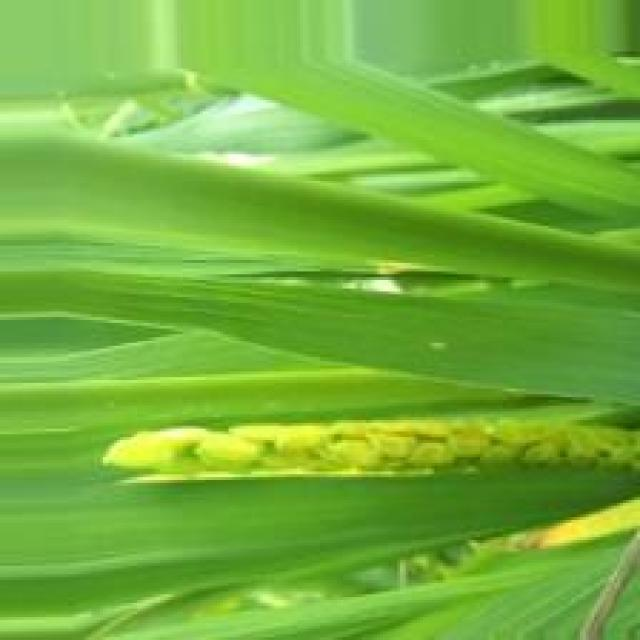HealthyLeaf: (0, 137, 640, 302), (0, 263, 640, 402)
